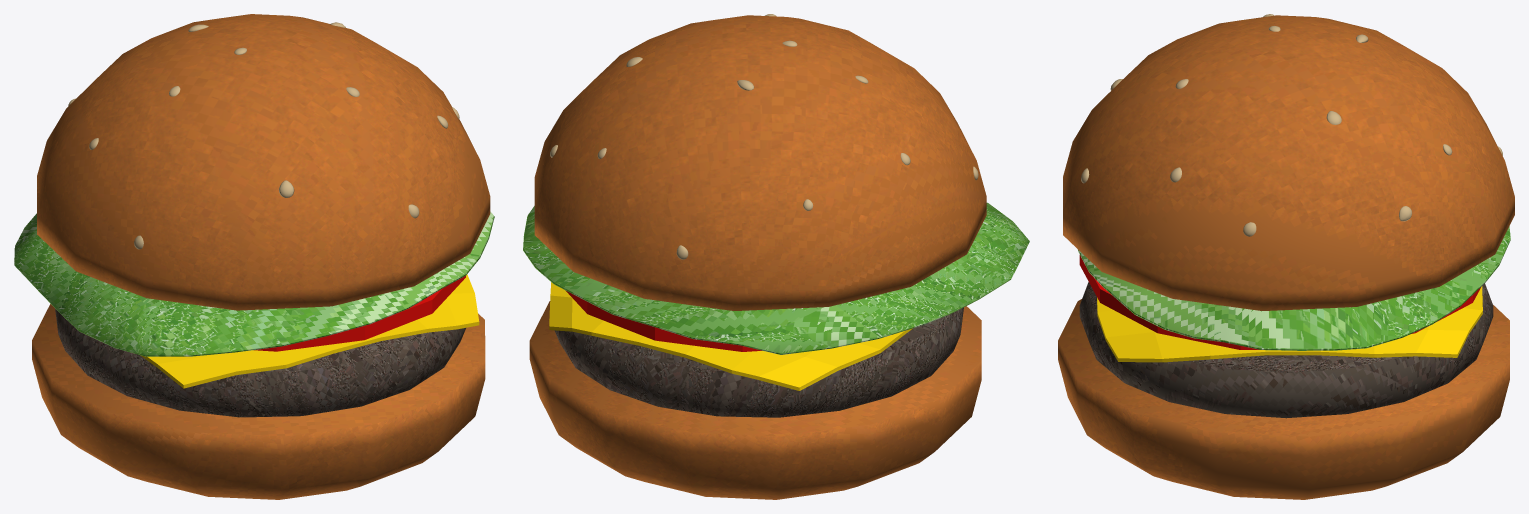
File: burger.fbx
3 views of the same model, side by side, from view 1: azimuth 30°, elevation 25°; view 2: azimuth 150°, elevation 25°; view 3: azimuth 270°, elevation 25° (orthographic).
Parts seen in each view (by area): view 1: burger-top_TT_color_00_0, burger-bottom_TT_color_00_0, lettue_TT_color_01_0, viande_TT_color_02_0, fromage_TT_color_03_0, tomate_TT_color_04_0, sesames_TT_color_05_0; view 2: burger-top_TT_color_00_0, burger-bottom_TT_color_00_0, lettue_TT_color_01_0, viande_TT_color_02_0, fromage_TT_color_03_0, tomate_TT_color_04_0, sesames_TT_color_05_0; view 3: burger-top_TT_color_00_0, burger-bottom_TT_color_00_0, viande_TT_color_02_0, lettue_TT_color_01_0, fromage_TT_color_03_0, tomate_TT_color_04_0, sesames_TT_color_05_0.
Part boxes in pixels (box(x1,y1,x2,y2)): burger-top_TT_color_00_0: box(37, 14, 490, 310); burger-bottom_TT_color_00_0: box(32, 304, 485, 499); lettue_TT_color_01_0: box(14, 211, 494, 356); viande_TT_color_02_0: box(55, 308, 465, 417); fromage_TT_color_03_0: box(140, 274, 479, 388); tomate_TT_color_04_0: box(254, 276, 465, 351); sesames_TT_color_05_0: box(68, 22, 459, 249); burger-top_TT_color_00_0: box(534, 15, 986, 310); burger-bottom_TT_color_00_0: box(529, 301, 981, 499); lettue_TT_color_01_0: box(523, 202, 1029, 354); viande_TT_color_02_0: box(554, 307, 963, 417); fromage_TT_color_03_0: box(549, 282, 912, 390); tomate_TT_color_04_0: box(565, 290, 762, 351); sesames_TT_color_05_0: box(550, 14, 978, 259); burger-top_TT_color_00_0: box(1063, 15, 1514, 310); burger-bottom_TT_color_00_0: box(1058, 299, 1509, 499); viande_TT_color_02_0: box(1079, 282, 1493, 418); lettue_TT_color_01_0: box(1078, 226, 1510, 350); fromage_TT_color_03_0: box(1097, 286, 1482, 362); tomate_TT_color_04_0: box(1079, 255, 1480, 349); sesames_TT_color_05_0: box(1081, 14, 1502, 236).
Size of the model in its own units: 433 by 387 by 398.
Materials: 6 (6 with a texture image).
